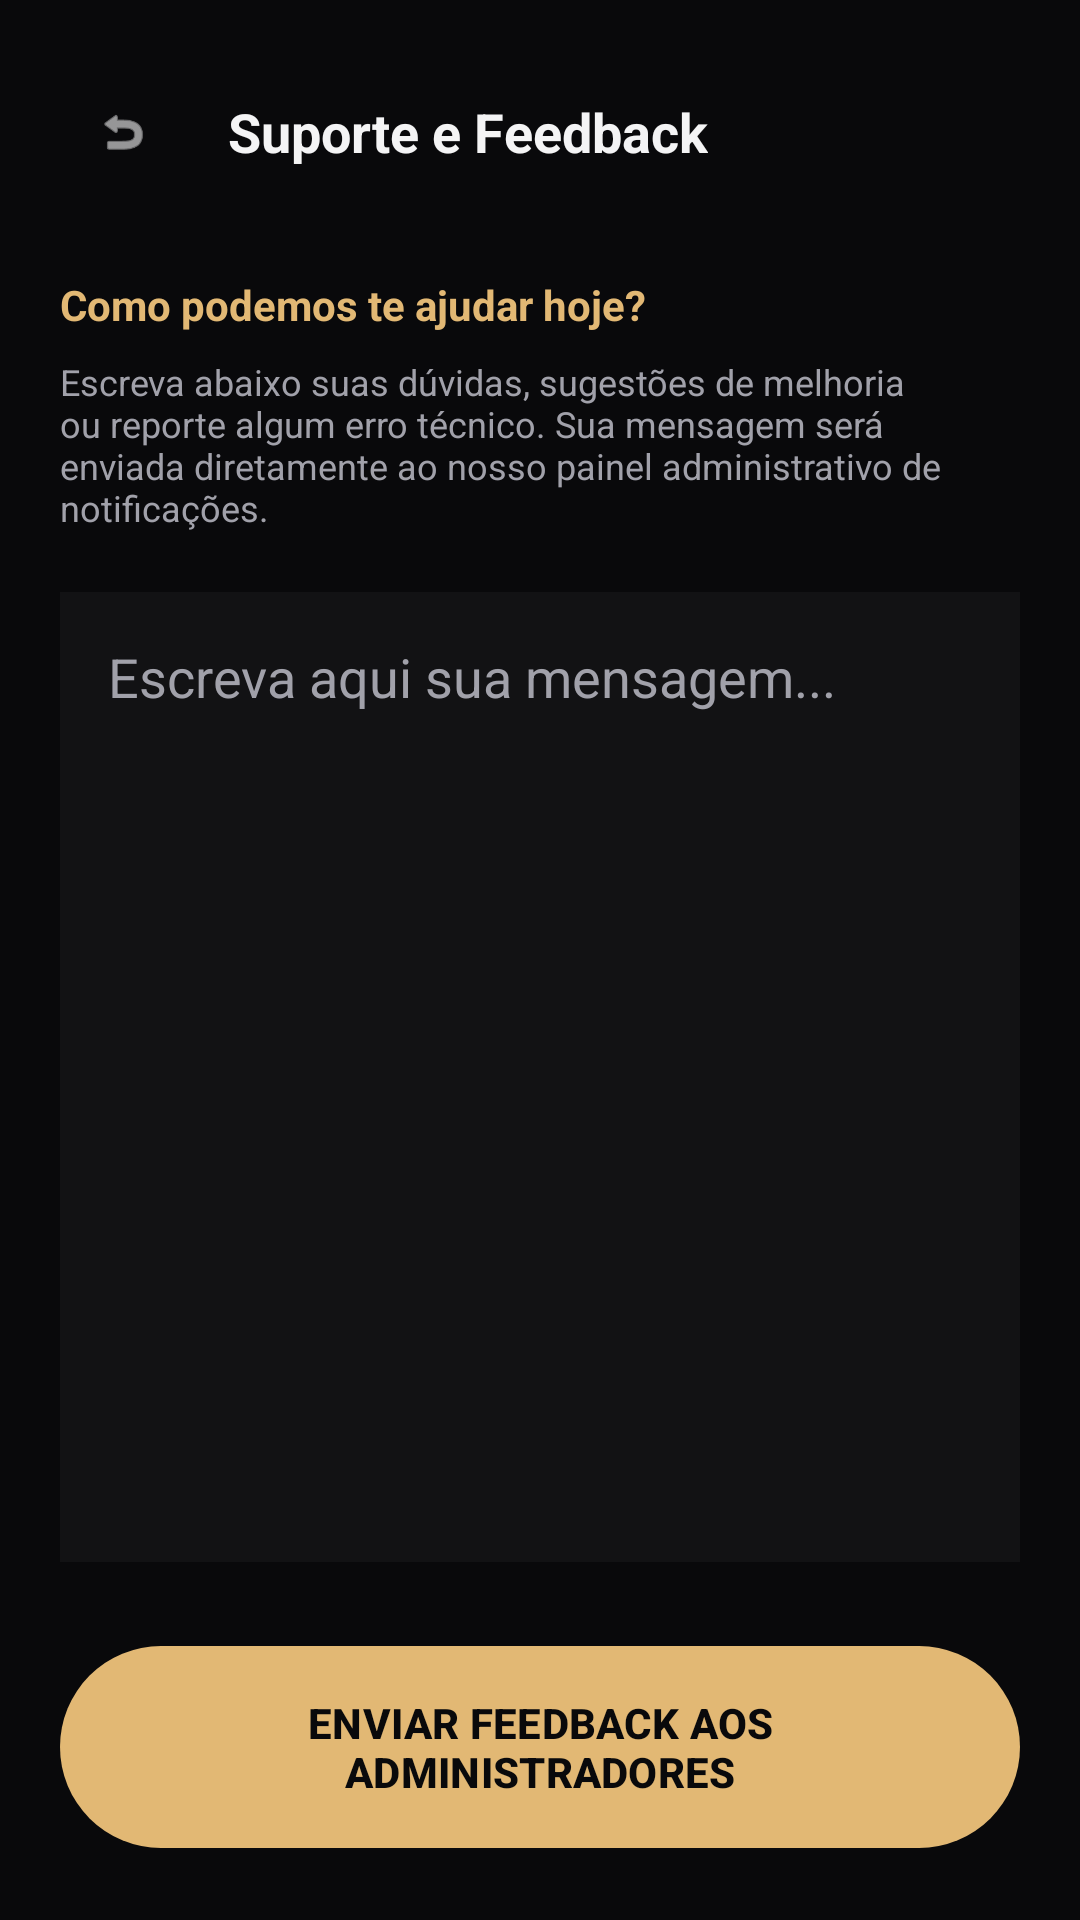

Icon bounding boxes for this 1080px x 1920px phone screenshot, format {"x1": x1, "y1": y1, "x2": x2, "y2": y2}:
revert: {"x1": 104, "y1": 115, "x2": 143, "y2": 150}
